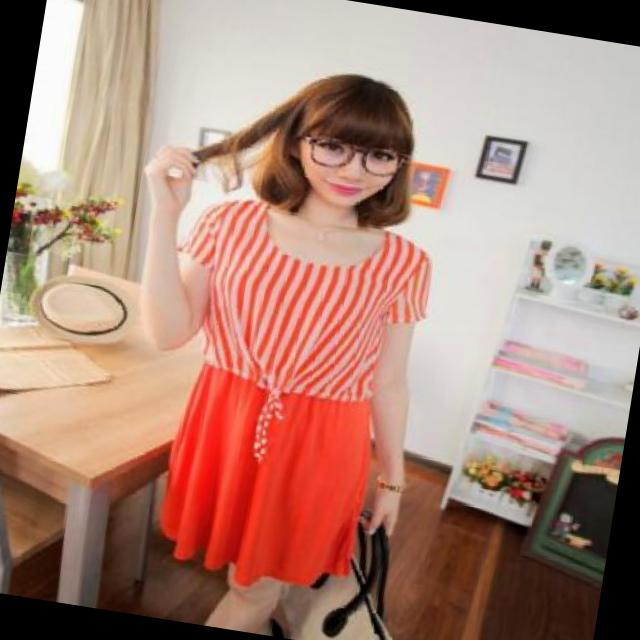Person: (109, 43, 472, 640)
